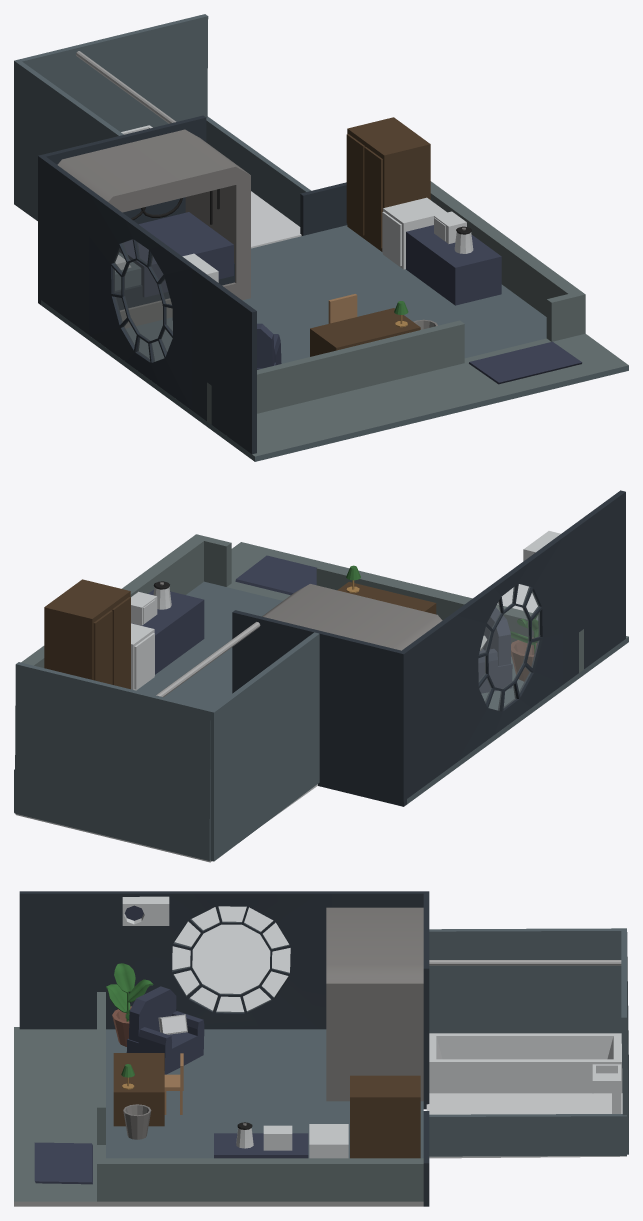
The model's file is one_room.fbx.
3 renders of one model, top to bottom at view 1: azimuth 30°, elevation 25°; view 2: azimuth 150°, elevation 25°; view 3: azimuth 270°, elevation 25°, orthographic. The views are drawn at different scales.
Parts seen in each view (by area): view 1: first_floor_GEO, window_pane_GEO, bed_frame_1_GEO, first_floor_wall_3_GEO, wardrobe_GEO1, toilet_wall_3_GEO, first_floor_bed_GEO, drawer_GEO1, first_floor_wall_5_GEO, window_glass_GEO, first_floor_wall_4_GEO, desk_GEO (+7 smaller); view 2: window_pane_GEO, first_floor_wall_3_GEO, first_floor_GEO, toilet_wall_3_GEO, first_floor_wall_5_GEO, wardrobe_GEO1, bed_frame_1_GEO, window_glass_GEO, drawer_GEO1, rug_2_GEO1, sofa_GEO, miniFridge_GEO1 (+4 smaller); view 3: first_floor_GEO, window_pane_GEO, toilet_wall_3_GEO, bed_frame_1_GEO, bath_tub_1_GEO, window_glass_GEO, first_floor_wall_4_GEO, wardrobe_GEO1, toilet_floor_GEO, sofa_GEO, desk_GEO, rug_2_GEO1 (+13 smaller).
Boxes of the visible parts, bbox=[...] form: first_floor_GEO: bbox=[41, 181, 628, 461]; window_pane_GEO: bbox=[41, 157, 256, 454]; bed_frame_1_GEO: bbox=[57, 129, 250, 328]; first_floor_wall_3_GEO: bbox=[17, 14, 208, 131]; wardrobe_GEO1: bbox=[346, 117, 430, 251]; toilet_wall_3_GEO: bbox=[14, 60, 123, 220]; first_floor_bed_GEO: bbox=[115, 212, 234, 310]; drawer_GEO1: bbox=[406, 225, 501, 305]; first_floor_wall_5_GEO: bbox=[38, 115, 347, 304]; window_glass_GEO: bbox=[113, 239, 172, 361]; first_floor_wall_4_GEO: bbox=[206, 116, 311, 226]; desk_GEO: bbox=[310, 308, 420, 356]; window_pane_GEO: bbox=[398, 490, 625, 801]; first_floor_wall_3_GEO: bbox=[14, 662, 213, 860]; first_floor_GEO: bbox=[21, 534, 628, 804]; toilet_wall_3_GEO: bbox=[210, 632, 319, 861]; first_floor_wall_5_GEO: bbox=[232, 610, 406, 806]; wardrobe_GEO1: bbox=[44, 579, 130, 689]; bed_frame_1_GEO: bbox=[262, 584, 442, 650]; window_glass_GEO: bbox=[478, 584, 539, 710]; drawer_GEO1: bbox=[131, 589, 204, 674]; rug_2_GEO1: bbox=[235, 555, 316, 595]; sofa_GEO: bbox=[478, 607, 512, 693]; miniFridge_GEO1: bbox=[131, 623, 154, 690]; first_floor_GEO: bbox=[14, 992, 423, 1206]; window_pane_GEO: bbox=[19, 891, 423, 1029]; toilet_wall_3_GEO: bbox=[429, 928, 626, 1033]; bed_frame_1_GEO: bbox=[326, 907, 423, 1101]; bath_tub_1_GEO: bbox=[429, 1033, 622, 1093]; window_glass_GEO: bbox=[172, 906, 290, 1012]; first_floor_wall_4_GEO: bbox=[429, 1114, 626, 1156]; wardrobe_GEO1: bbox=[350, 1075, 420, 1158]; toilet_floor_GEO: bbox=[426, 1093, 626, 1158]; sofa_GEO: bbox=[126, 986, 204, 1074]; desk_GEO: bbox=[113, 1053, 164, 1126]; rug_2_GEO1: bbox=[34, 1142, 92, 1184].
Bounding box in the file's own units: 838 × 315 × 1248.
